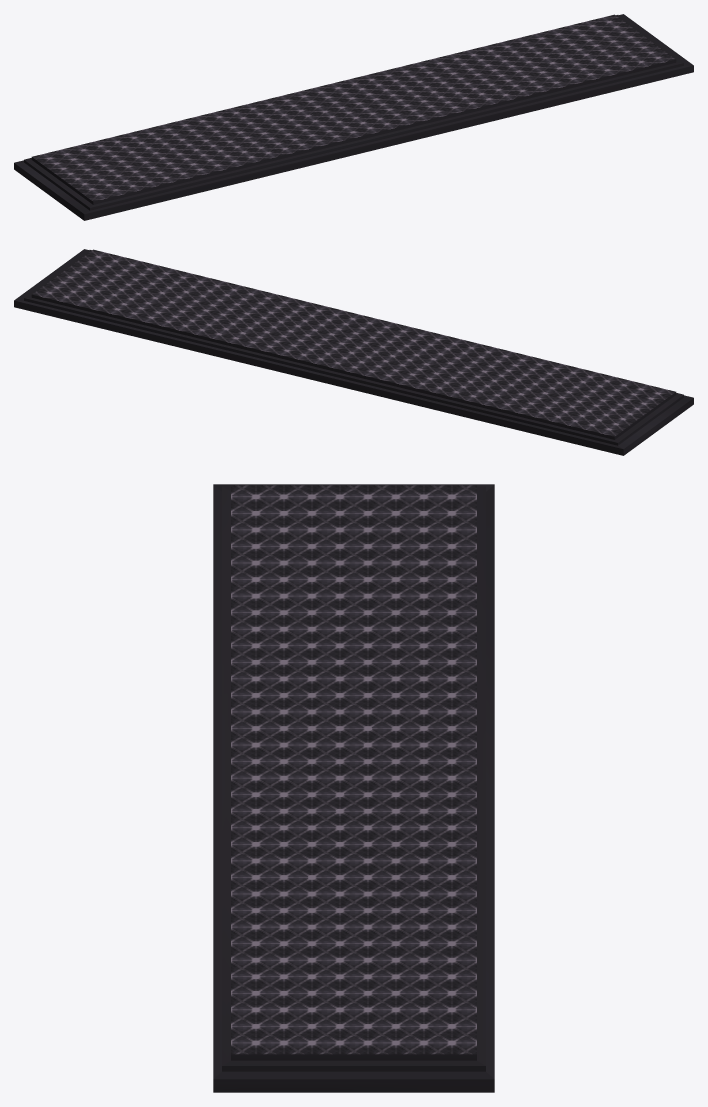
Rendered from Ceiling_Hall.glb.
3 renders of one model, top to bottom at view 1: azimuth 30°, elevation 25°; view 2: azimuth 150°, elevation 25°; view 3: azimuth 270°, elevation 25°, orthographic. The views are drawn at different scales.
Parts seen in each view (by area): view 1: Roof; view 2: Roof; view 3: Roof.
Part boxes in pixels (x1,y1,x2,y2): Roof: (14, 14, 693, 220); Roof: (14, 249, 693, 455); Roof: (213, 484, 494, 1092).
Bounding box in the file's own units: 150 × 2.98 × 30.
1 material, 1 textured.
